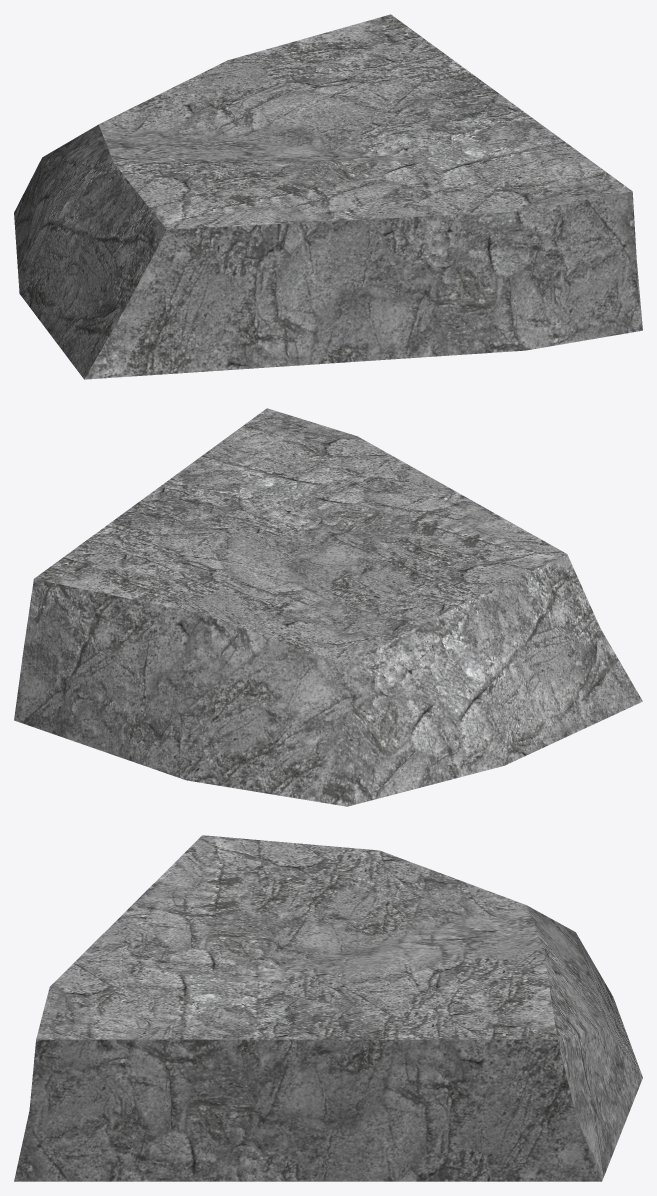
The model's file is materials_3_rubble_7.fbx.
3 renders of one model, top to bottom at view 1: azimuth 30°, elevation 25°; view 2: azimuth 150°, elevation 25°; view 3: azimuth 270°, elevation 25°, orthographic. The views are drawn at different scales.
Visible parts, largest first — view 1: materials_3_rubble_7; view 2: materials_3_rubble_7; view 3: materials_3_rubble_7.
Part boxes in pixels (<box>): materials_3_rubble_7: <box>14,14,642,379</box>; materials_3_rubble_7: <box>14,408,642,806</box>; materials_3_rubble_7: <box>14,835,642,1181</box>.
Bounding box in the file's own units: 111 × 29.74 × 119.
